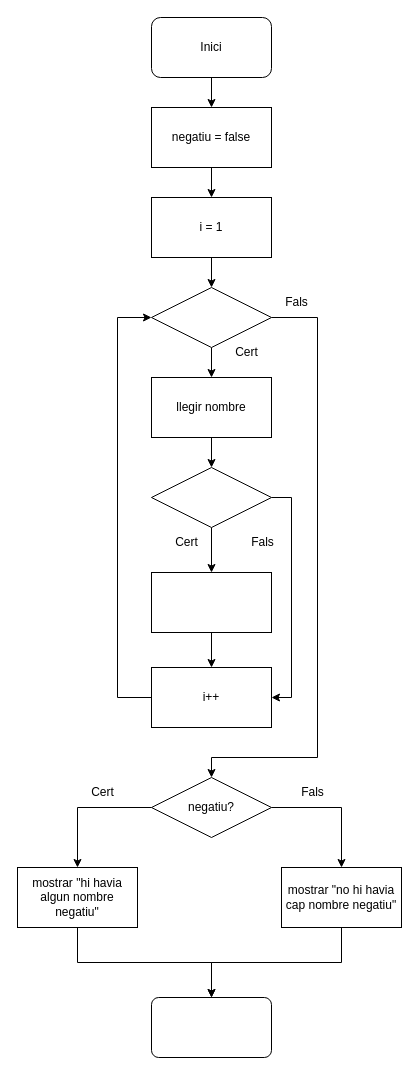
The diagram is 419 pixels wide and 1075 high, and some of its shapes have lost their labels. The shapes that lost their labels are listed below. From the top down, each one's box as (x1, y1, x2, y2) in pixels, then its label:
(150, 286, 272, 348): i <= 100?
(150, 466, 272, 528): nombre < 0?
(150, 572, 272, 632): negatiu = true
(150, 996, 272, 1058): Fi
